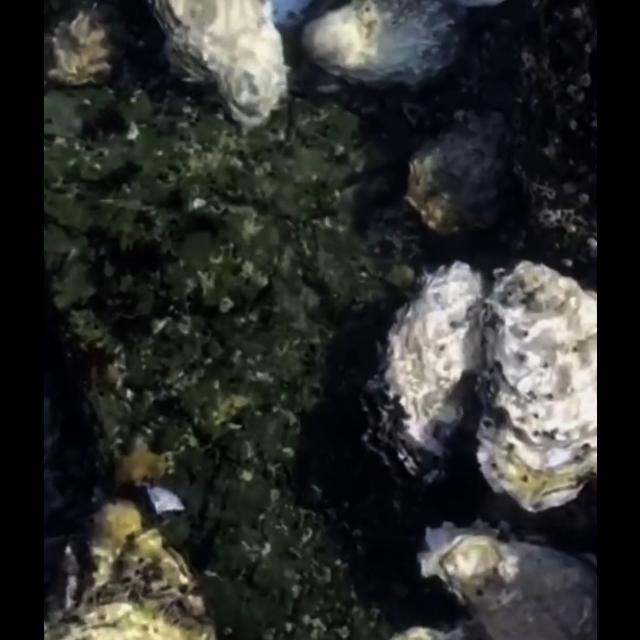Oyster-Closed: (472, 264, 596, 518), (44, 502, 214, 640), (415, 520, 597, 640), (144, 1, 286, 138), (296, 1, 458, 98), (401, 116, 513, 240), (44, 0, 130, 96)
Oyster-Open: (356, 264, 486, 498)
